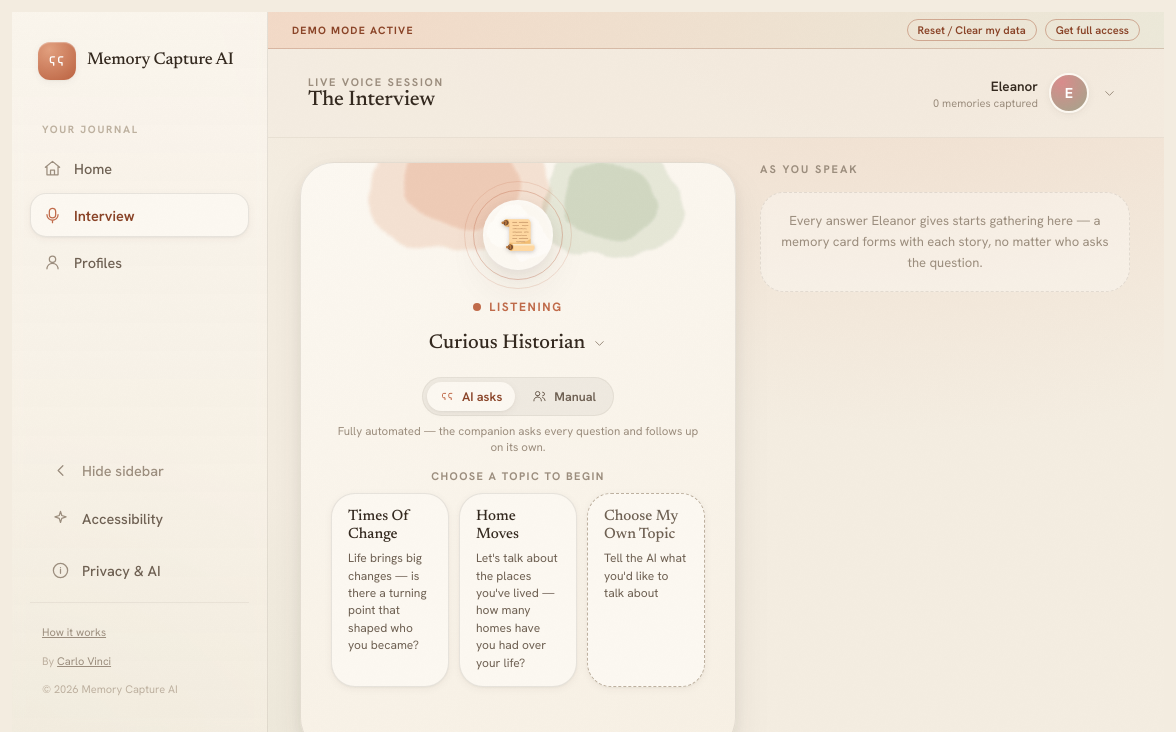
Test: changing interviewer (repro #4) › updates the displayed interviewer when picked in the interview
Check: the element named "interview mode" is shown, box [422,377,614,416]
# Open the picker and choose The Journalist.
Click the button "Curious Historian" at coordinates (518, 343), box [421,321,615,365]
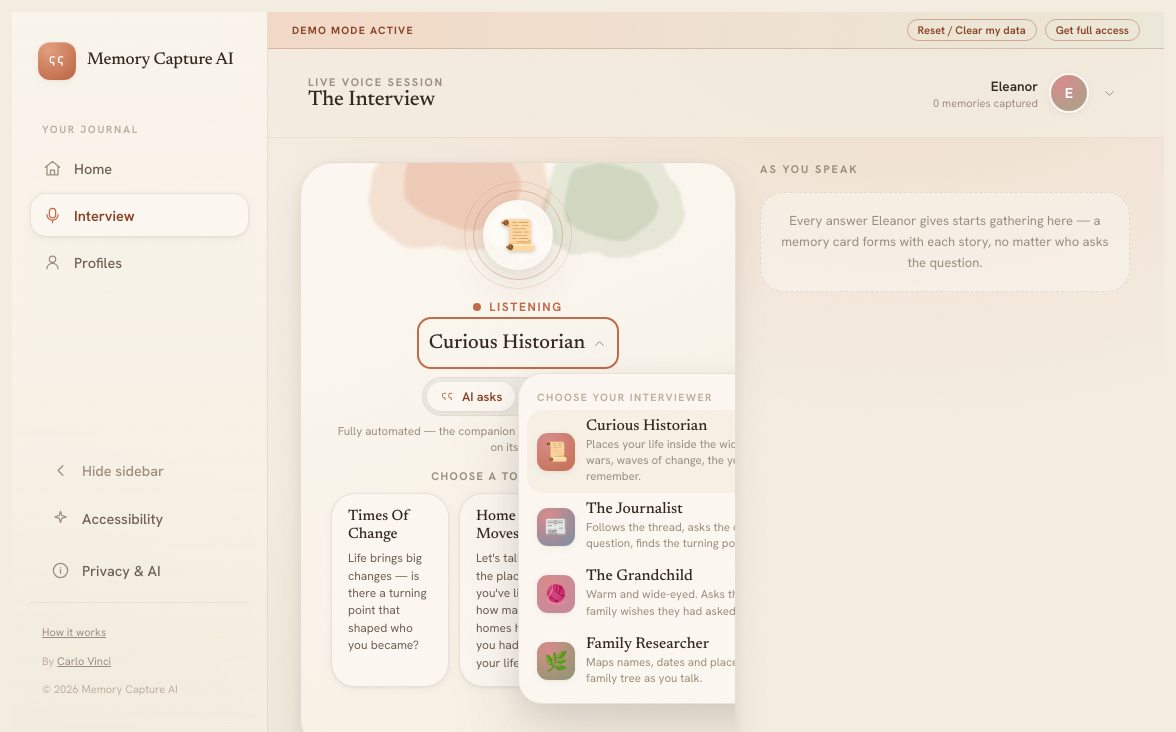
Click the text "The Journalist" at coordinates (634, 510), box [586,502,683,517]
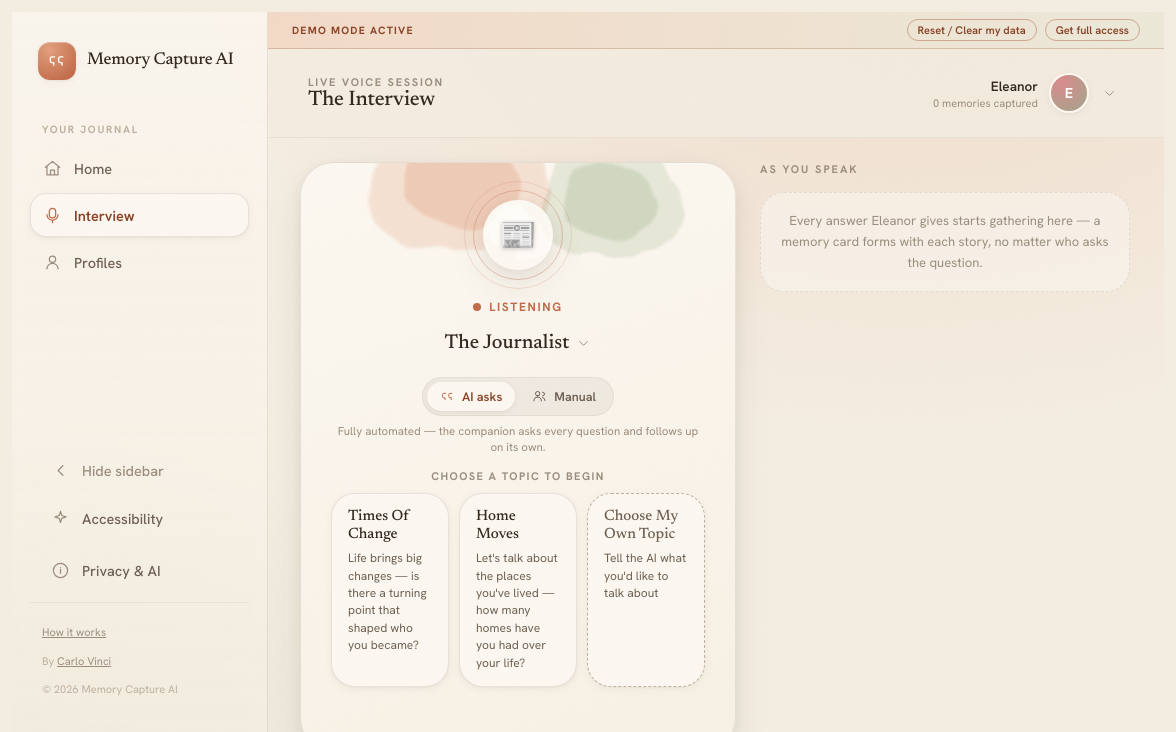
Check: the button "The Journalist" is shown, box [437,321,599,365]
